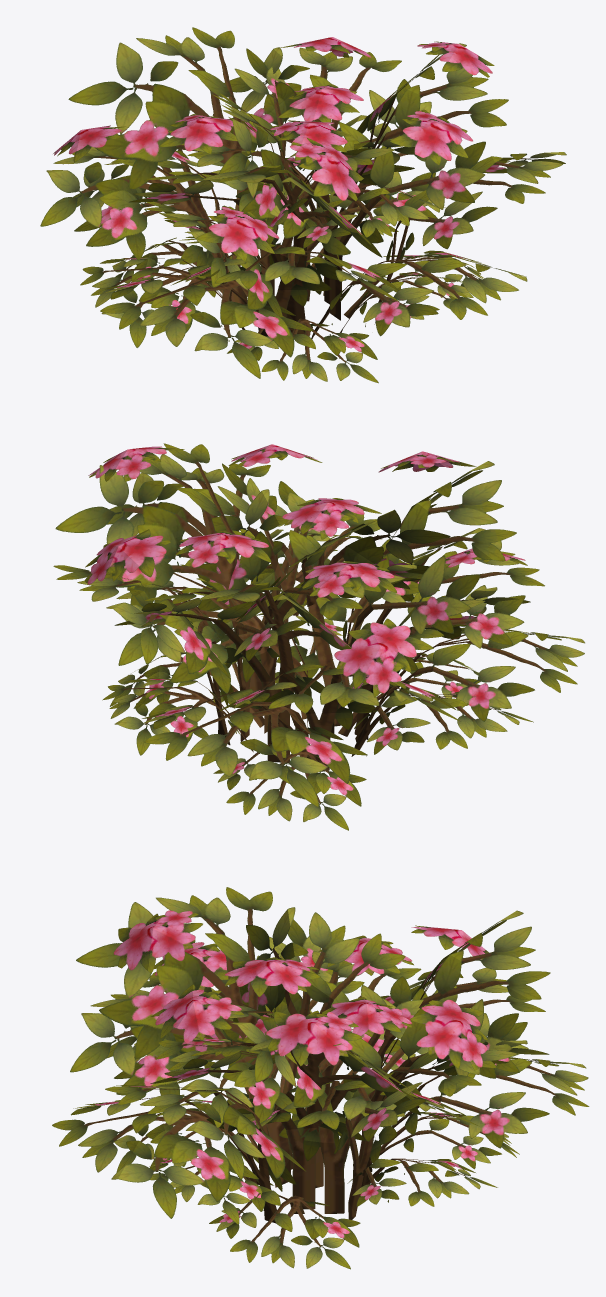
The model's file is Pink Azalea Flowers.obj.
3 renders of one model, top to bottom at view 1: azimuth 30°, elevation 25°; view 2: azimuth 150°, elevation 25°; view 3: azimuth 270°, elevation 25°, orthographic. The views are drawn at different scales.
Visible parts, largest first — view 1: s4studio_mesh_0; view 2: s4studio_mesh_0; view 3: s4studio_mesh_0.
Boxes of the visible parts, x1,y1,x2,y2 form: s4studio_mesh_0: (40,27,566,383); s4studio_mesh_0: (53,443,584,830); s4studio_mesh_0: (52,887,589,1269).
Size of the model in its own units: 1.01 by 0.47 by 0.9499.
1 material, 1 textured.
